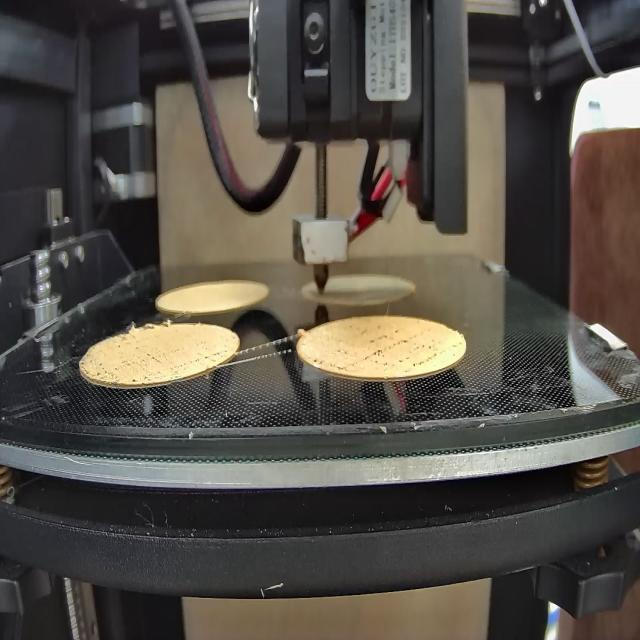under_extrusion: (359, 329, 441, 370), (97, 342, 164, 383), (308, 348, 349, 374), (183, 346, 229, 368)
